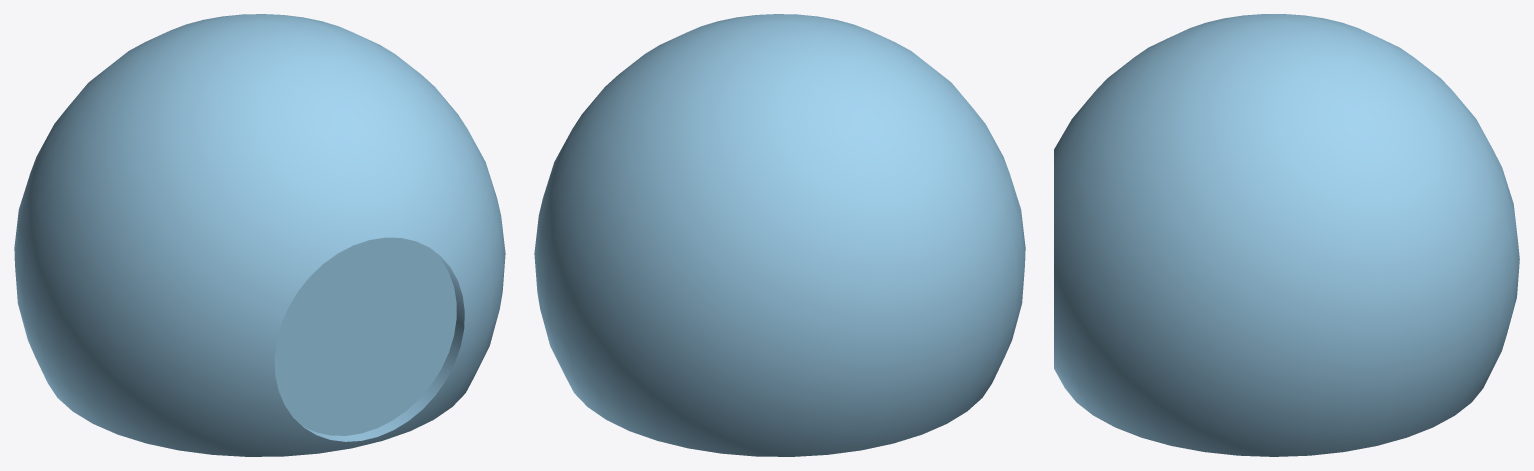
The model's file is camera.dae.
3 views of the same model, side by side, from view 1: azimuth 30°, elevation 25°; view 2: azimuth 150°, elevation 25°; view 3: azimuth 270°, elevation 25° (orthographic).
Parts seen in each view (by area): view 1: ID2; view 2: ID2; view 3: ID2.
Boxes of the visible parts, left/top/right/bottom form: ID2: left=14, top=14, right=505, bottom=456; ID2: left=534, top=14, right=1025, bottom=456; ID2: left=1054, top=14, right=1519, bottom=456.
Bounding box in the file's own units: 0.0625 × 0.0593 × 0.0463.
